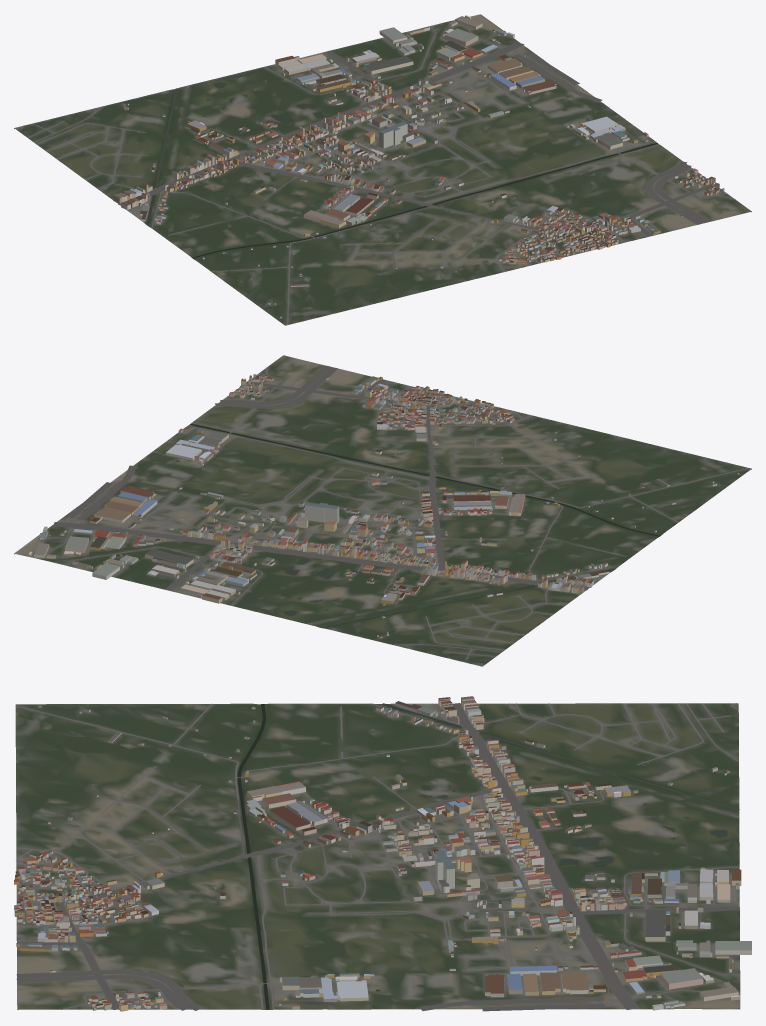
3 views of the same model, one above another, from view 1: azimuth 30°, elevation 25°; view 2: azimuth 150°, elevation 25°; view 3: azimuth 270°, elevation 25° (orthographic). The views are drawn at different scales.
Visible parts, largest first — view 1: ground, buildings, roads, water; view 2: ground, buildings, roads, water; view 3: ground, buildings, roads, water.
Boxes of the visible parts, x1,y1,x2,y2 form: ground: (14, 14, 751, 325); buildings: (113, 15, 724, 318); roads: (15, 24, 735, 324); water: (146, 82, 657, 258); ground: (14, 355, 751, 666); buildings: (28, 374, 739, 638); roads: (47, 363, 749, 665); water: (176, 423, 659, 627); ground: (15, 703, 740, 1009); buildings: (14, 696, 751, 1011); roads: (15, 703, 740, 1011); water: (220, 703, 739, 1009).
Size of the model in its own units: 1413 by 47.36 by 1431.
